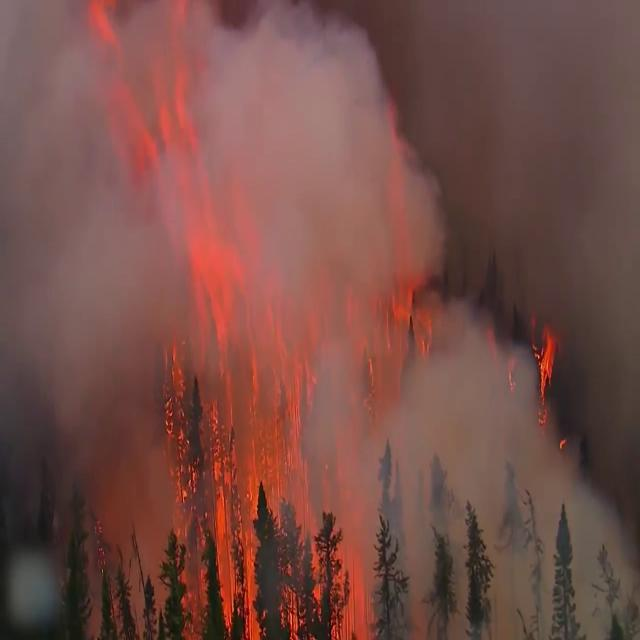Fire: (130, 70, 370, 635), (534, 319, 558, 412)
Smoke: (0, 1, 628, 640)
